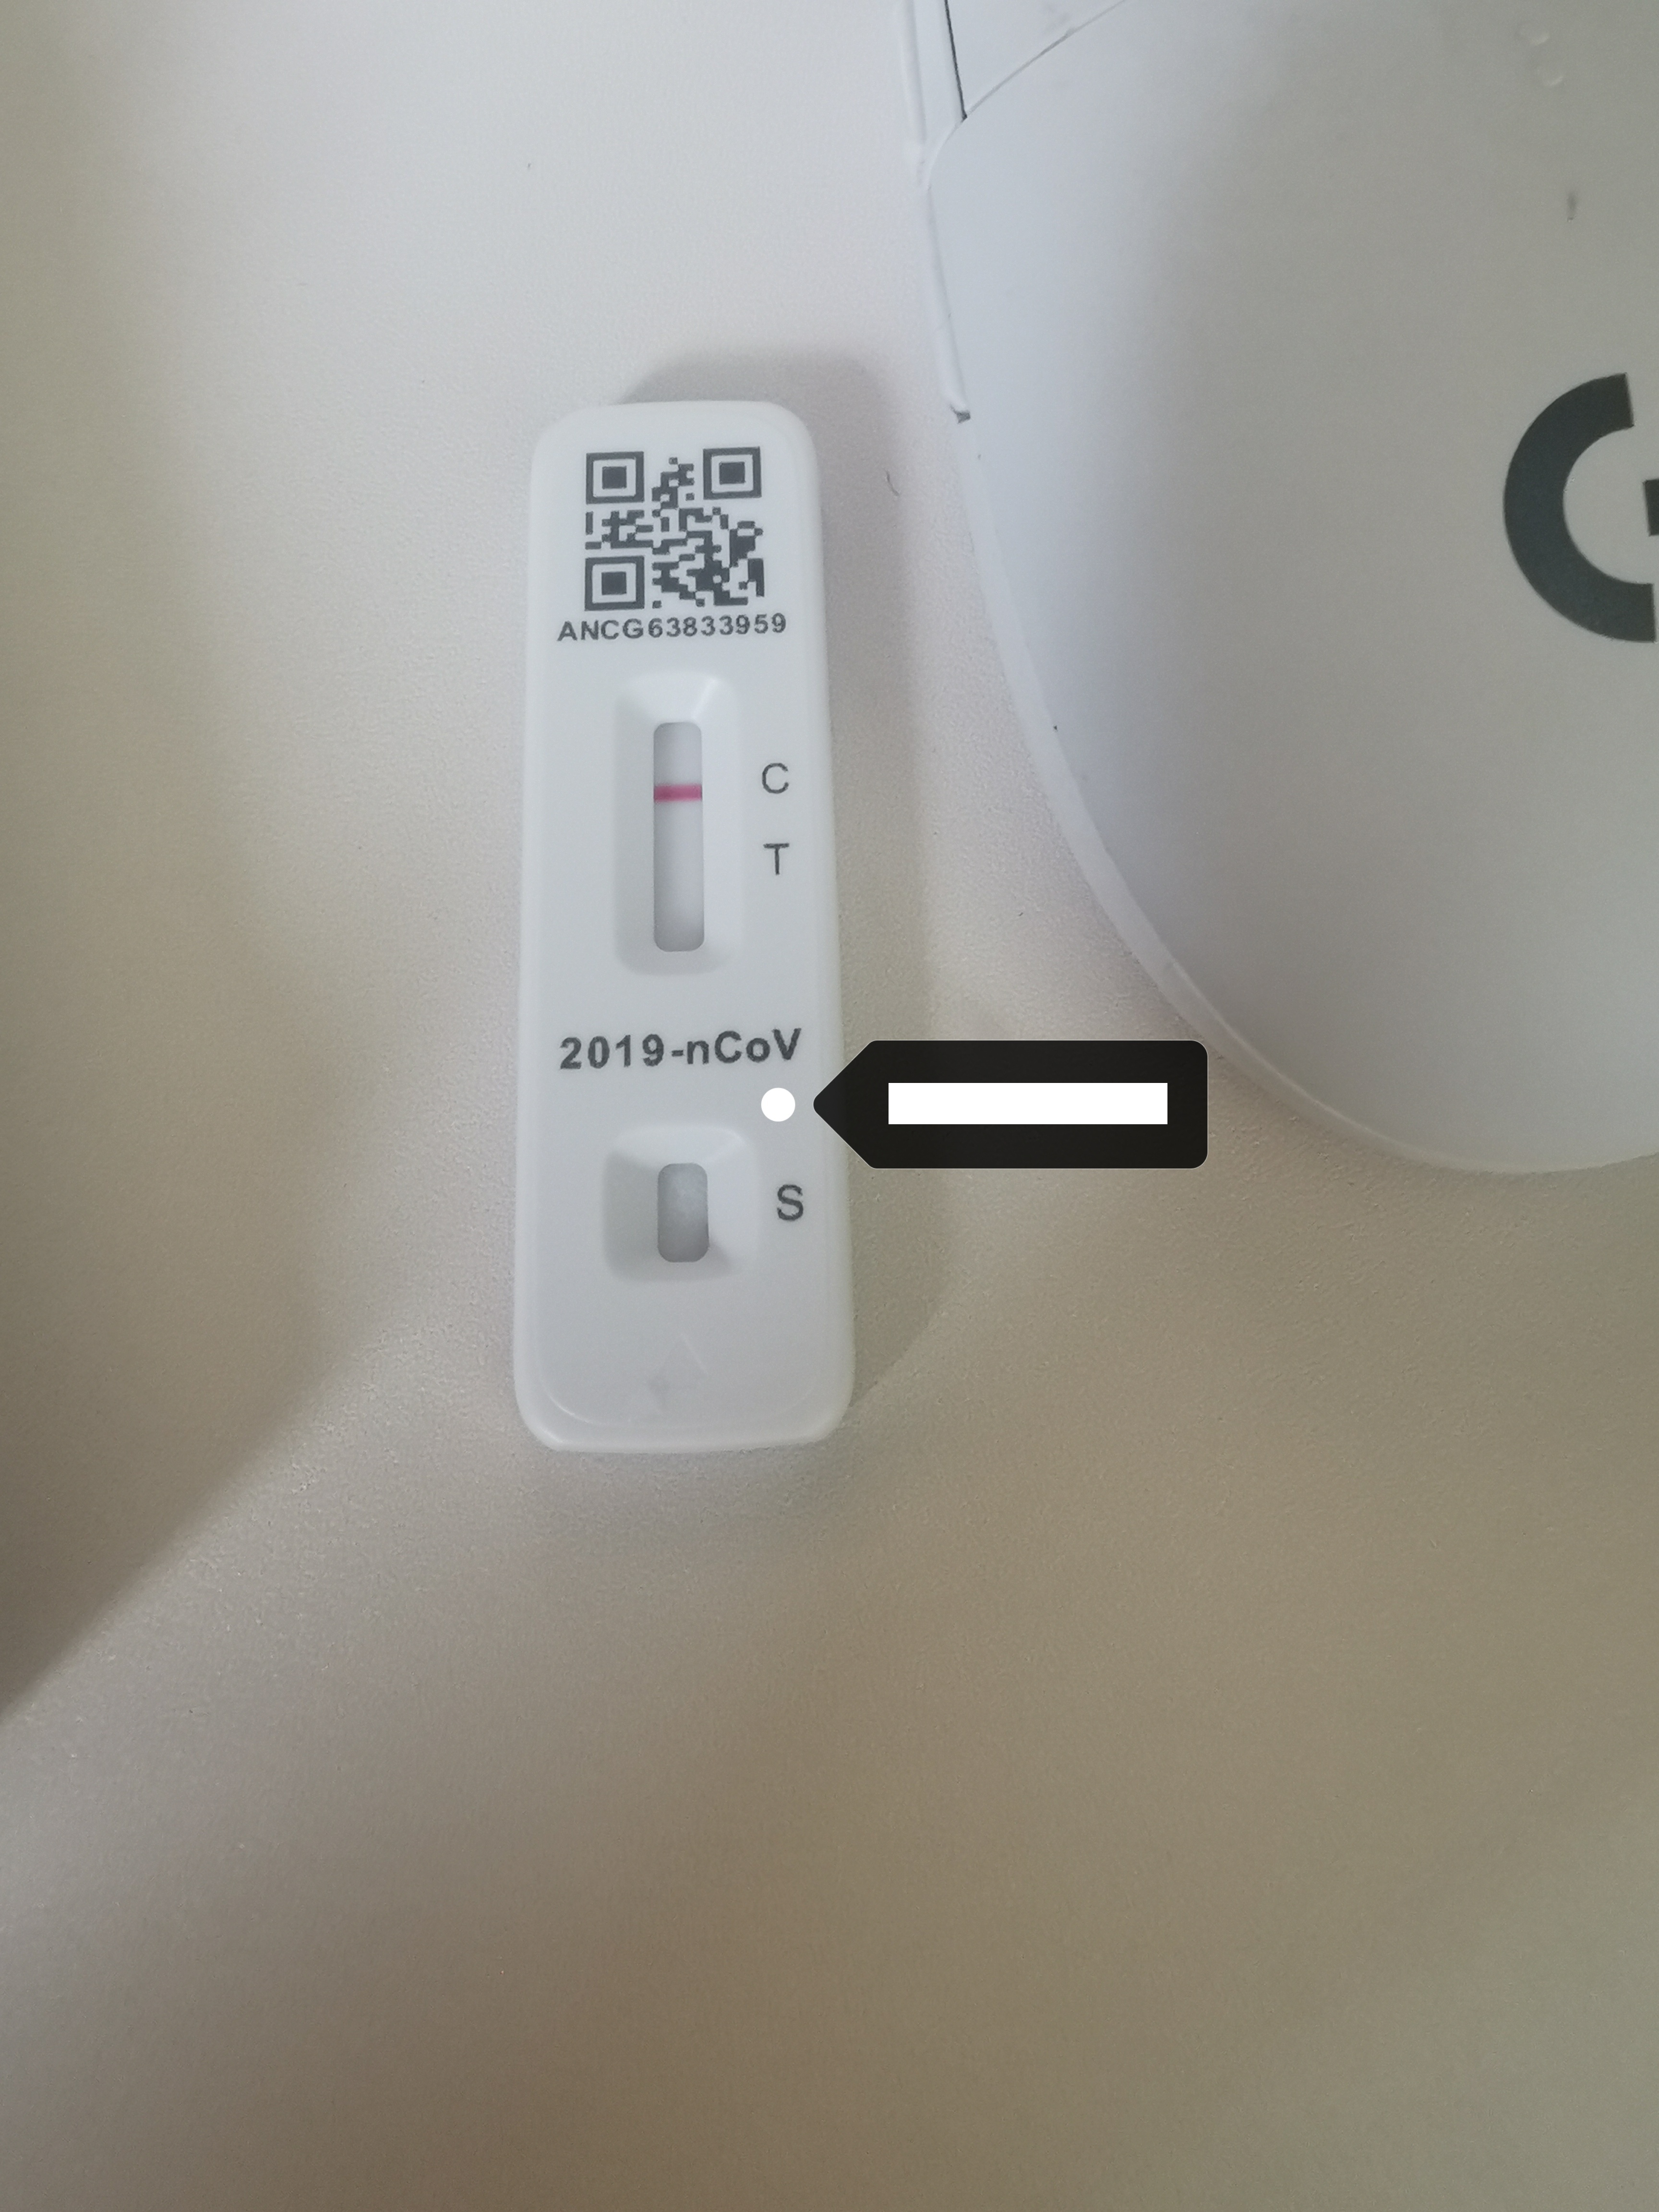negative: (615, 676, 735, 981)
